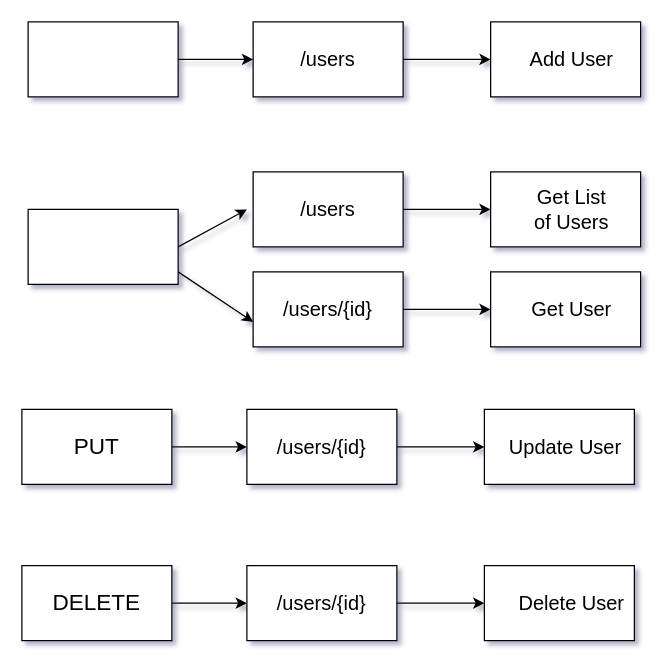
Image size: 670x670. Some labels were removed from this diagram. The shapes that lost their labels are listed below. From the top down, each one's box as (x1, y1, x2, y2) in pixels, then its label:
(27, 21, 178, 97): POST
(27, 208, 178, 284): GET
